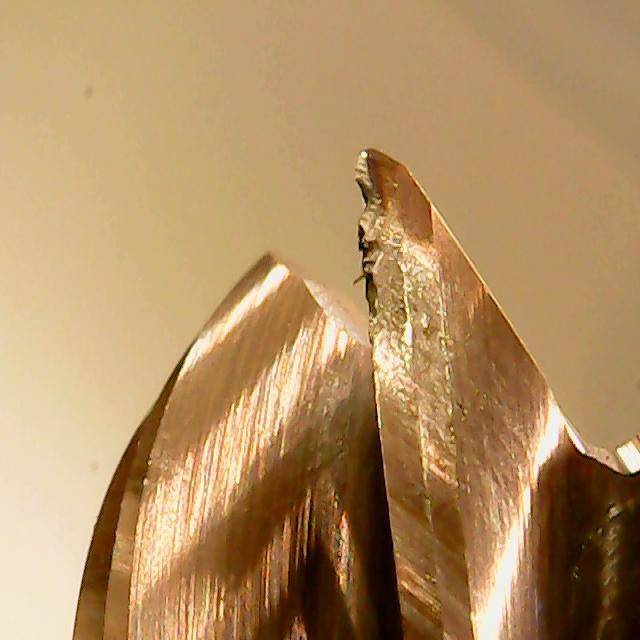Tool-wear-class-1: (348, 145, 448, 453)
